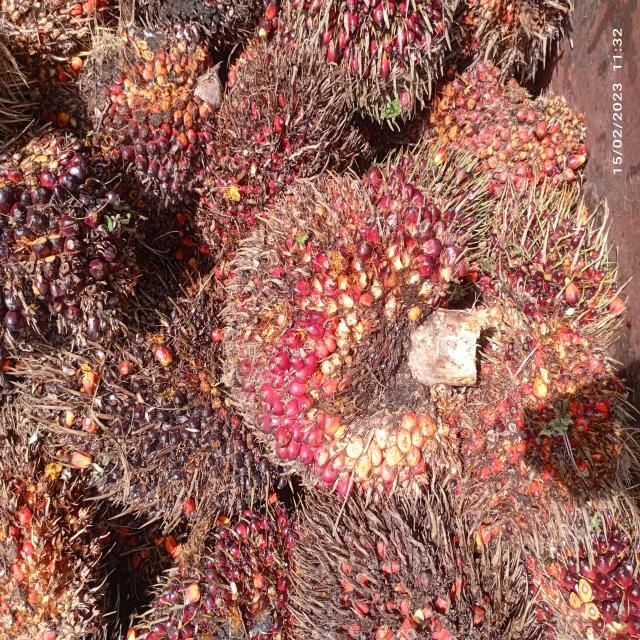fraksi 00: (35, 321, 274, 560)
fraksi 1: (58, 0, 242, 223), (0, 113, 129, 364)
fraksi 3: (189, 126, 506, 526)
fraksi 4: (453, 256, 640, 567), (190, 24, 328, 296), (428, 30, 585, 242), (290, 486, 500, 640)
